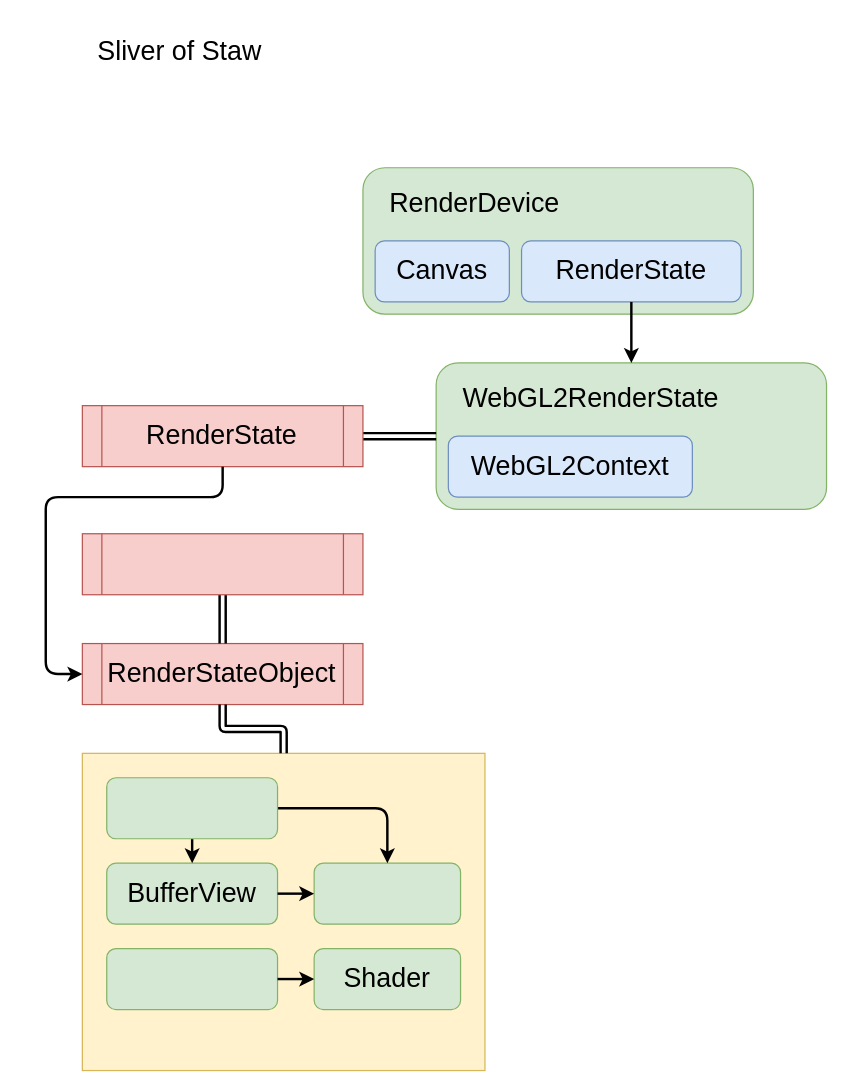
The diagram is 848 pixels wide and 1092 high, and some of its shapes have lost their labels. Each missing label, with the centre of its shape:
"Buffer" belongs at (387,893).
"Program" belongs at (192,978).
"RefCountedBase" belongs at (222,564).
"VertexArray" belongs at (192,808).
